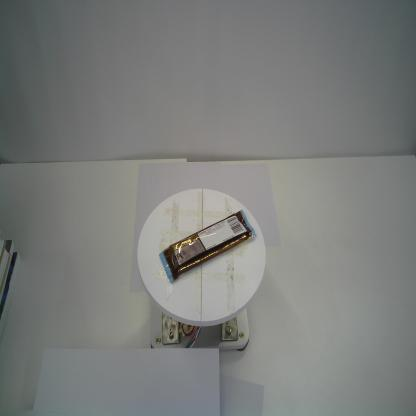Chocolate: (158, 209, 258, 286)
